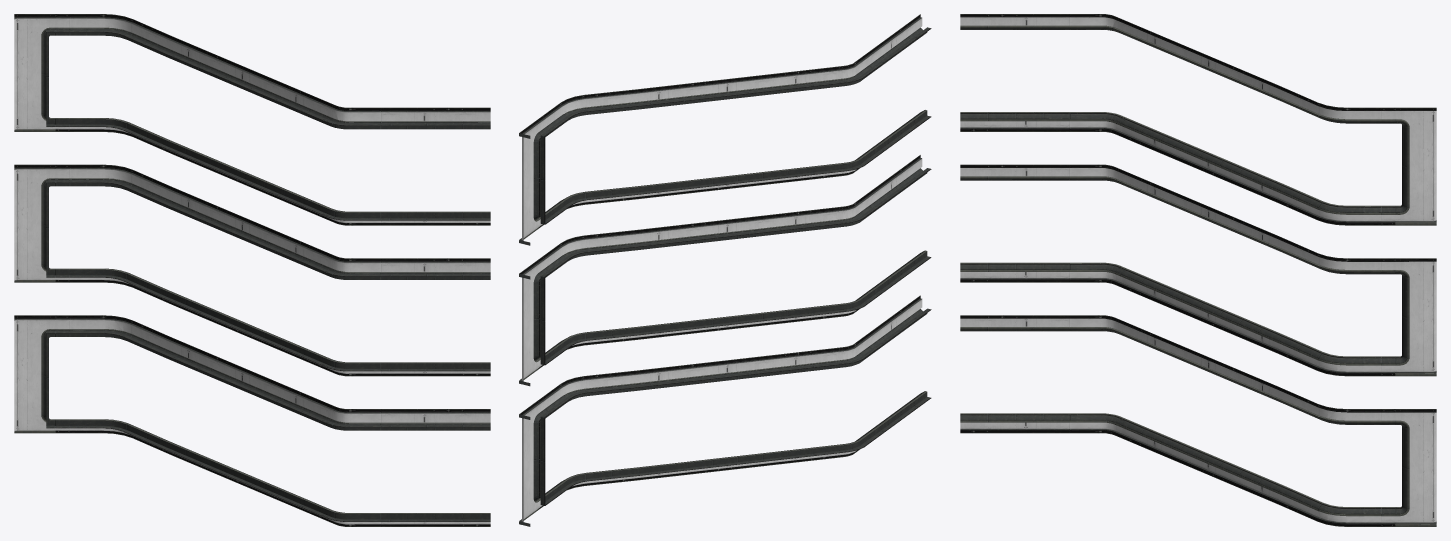
Rendered from HubFAC_Win01_Low.FBX.
3 views of the same model, side by side, from view 1: azimuth 90°, elevation 25°; view 2: azimuth 150°, elevation 25°; view 3: azimuth 270°, elevation 25° (orthographic). The views are drawn at different scales.
Visible parts, largest first — view 1: HubFAC_Win01_Low; view 2: HubFAC_Win01_Low; view 3: HubFAC_Win01_Low.
Part boxes in pixels (left/top/right/bottom): HubFAC_Win01_Low: left=14, top=14, right=490, bottom=526; HubFAC_Win01_Low: left=519, top=14, right=931, bottom=526; HubFAC_Win01_Low: left=960, top=14, right=1436, bottom=526.
Bounding box in the file's own units: 8.5 × 16.7 × 17.2.
